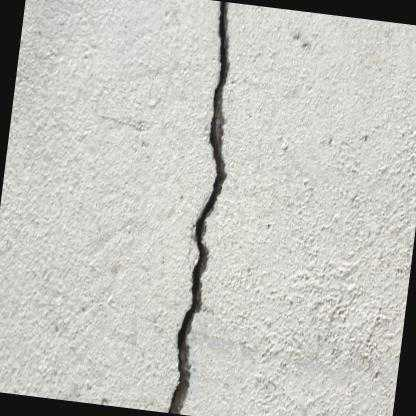crack: (165, 0, 228, 414)
